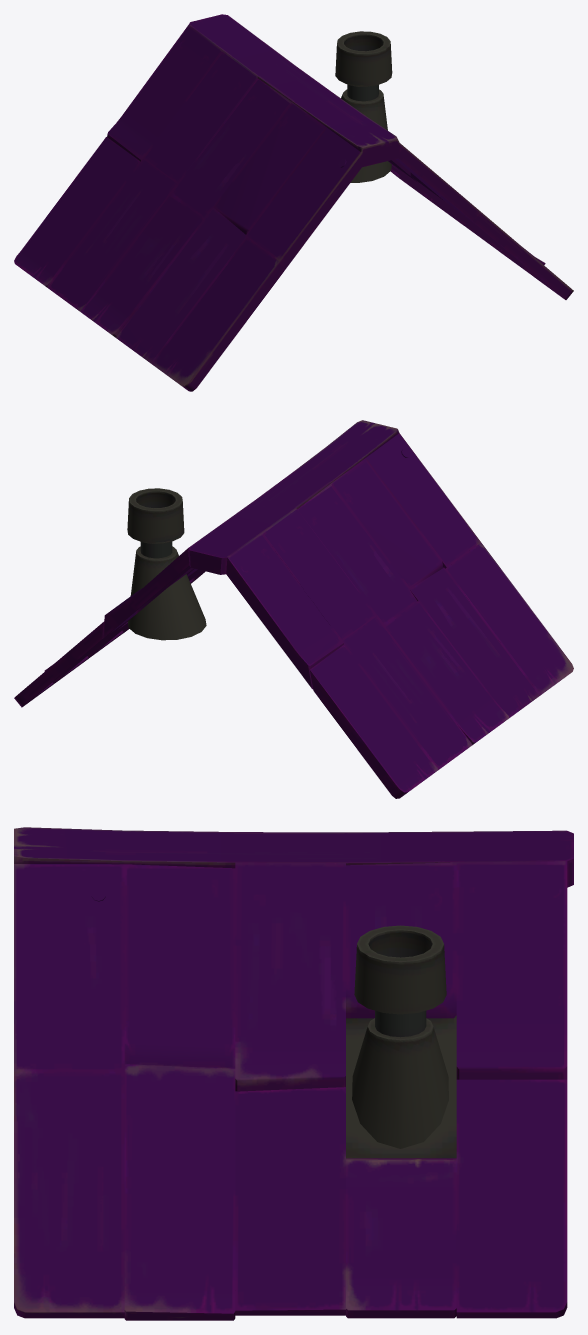
Rendered from standard_roof_1.glb.
3 renders of one model, top to bottom at view 1: azimuth 30°, elevation 25°; view 2: azimuth 150°, elevation 25°; view 3: azimuth 270°, elevation 25°, orthographic. The views are drawn at different scales.
Parts seen in each view (by area): view 1: Base_low__mRoofA; view 2: Base_low__mRoofA; view 3: Base_low__mRoofA.
Boxes of the visible parts, x1,y1,x2,y2 form: Base_low__mRoofA: (14, 14, 573, 391); Base_low__mRoofA: (14, 420, 573, 798); Base_low__mRoofA: (14, 827, 573, 1320).
Size of the model in its own units: 30.46 by 14.97 by 23.03.
Materials: 1 (1 with a texture image).
